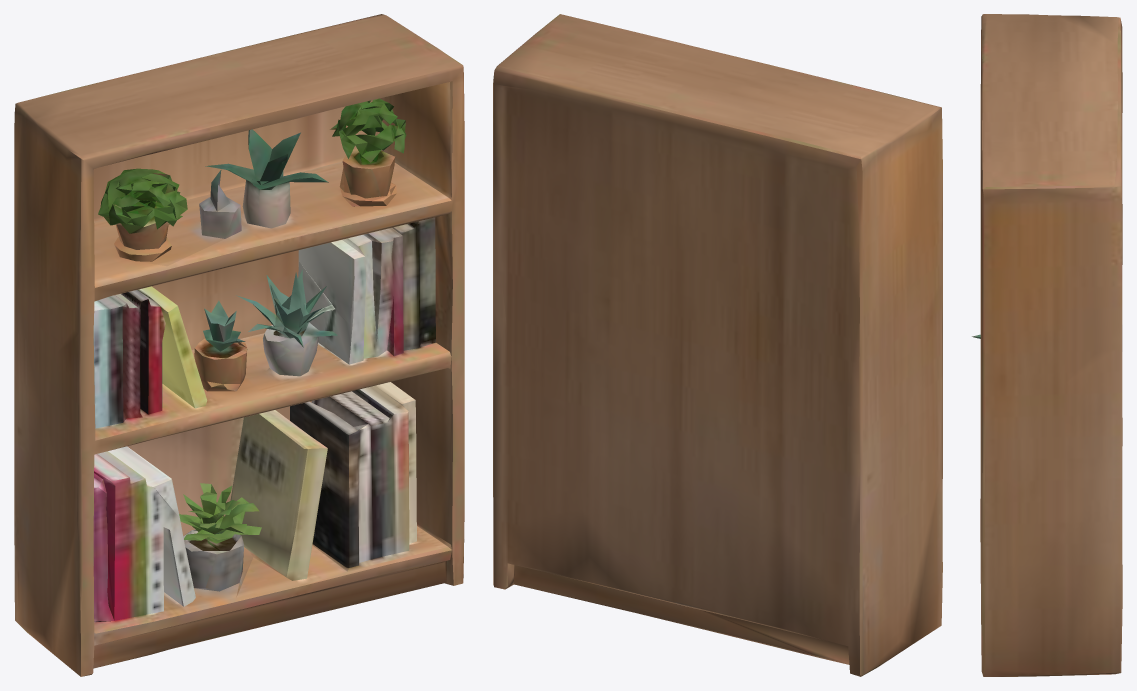
Rendered from bookshelf.glb.
The picture shows the model from 3 angles, left to right: view 1: azimuth 30°, elevation 25°; view 2: azimuth 150°, elevation 25°; view 3: azimuth 270°, elevation 25°; orthographic projection. The views are drawn at different scales.
Visible parts, largest first — view 1: bookshelf; view 2: bookshelf; view 3: bookshelf.
Part boxes in pixels (<box>): bookshelf: <box>14,14,464,676</box>; bookshelf: <box>493,14,942,676</box>; bookshelf: <box>972,14,1122,676</box>.
Size of the model in its own units: 0.8513 by 1.1 by 0.3078.
1 material, 1 textured.
